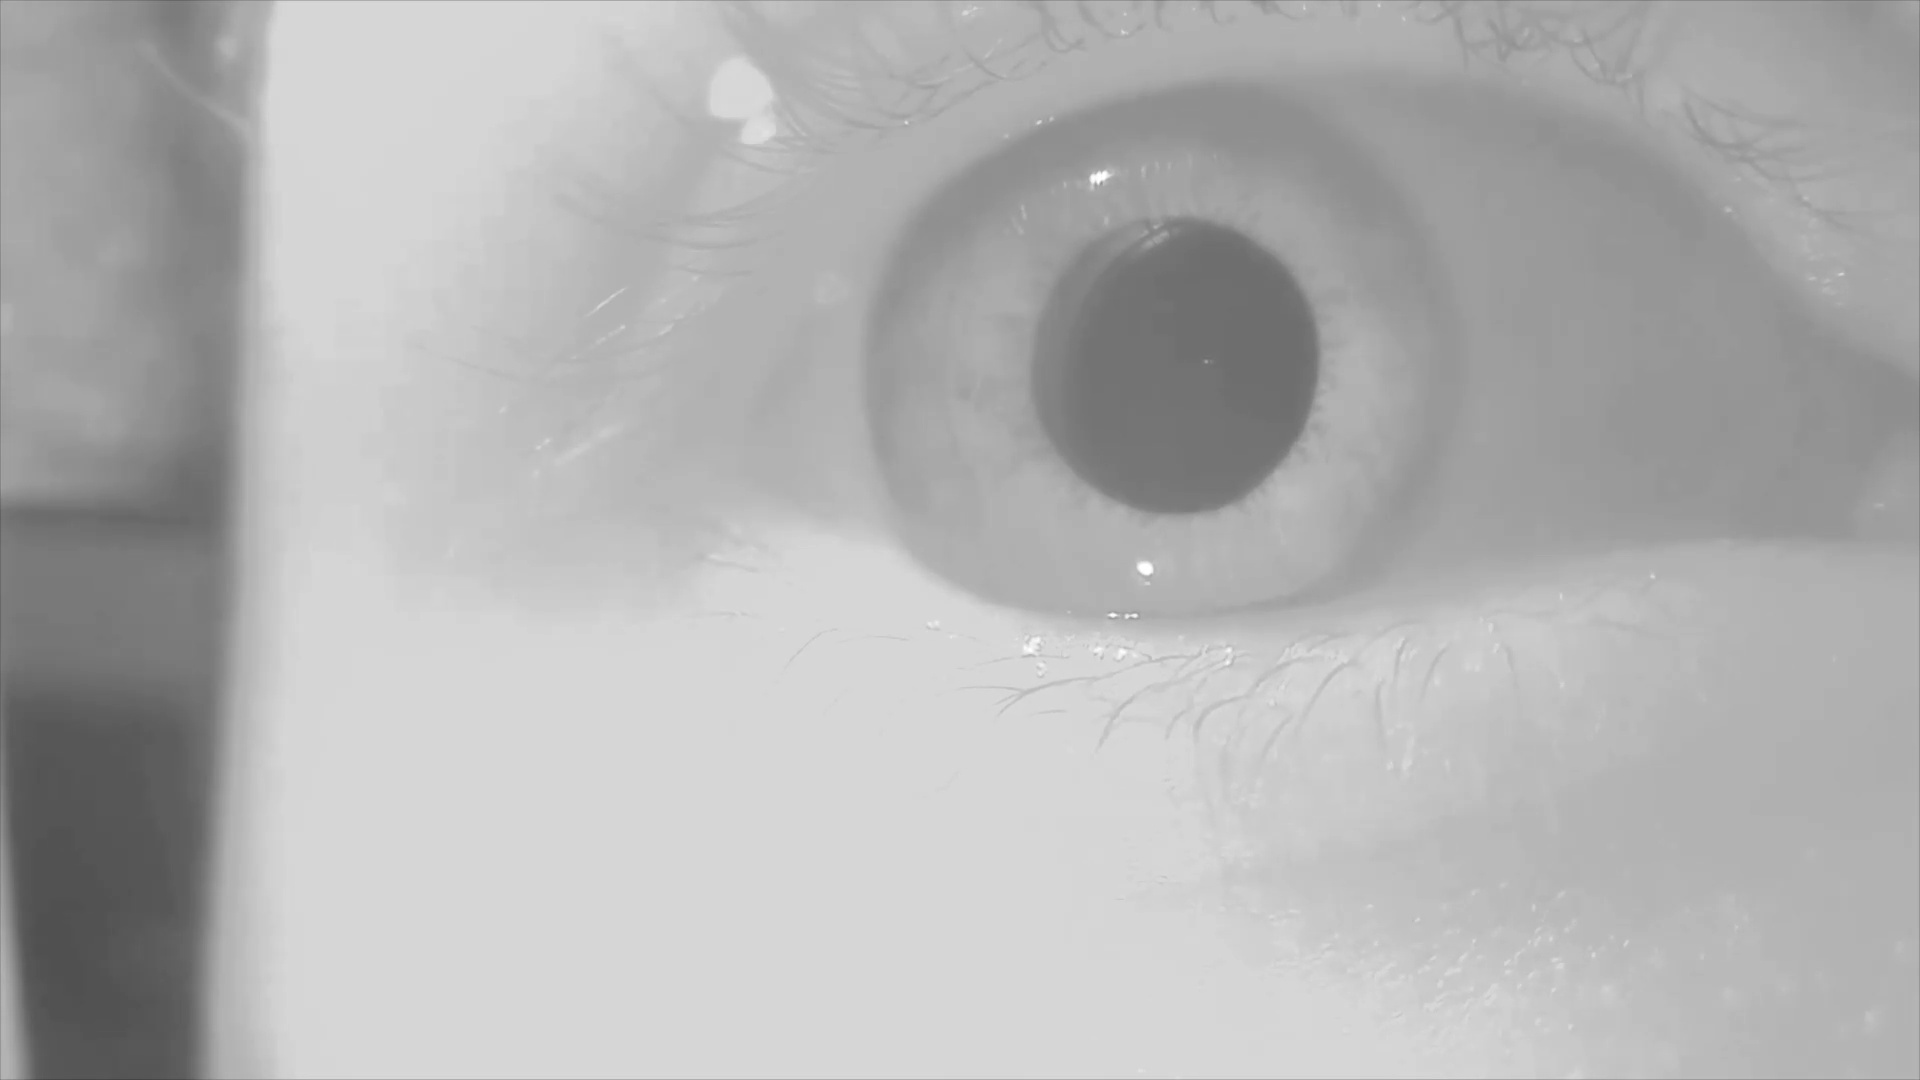pupil: (1039, 220, 1319, 520)
